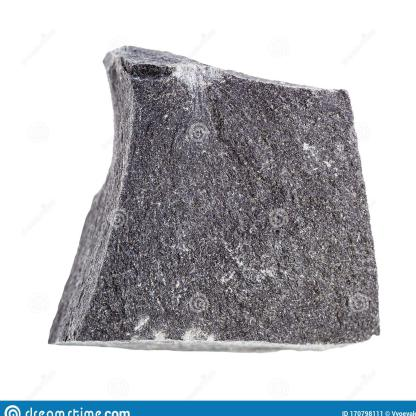Igneous_Basalt: (48, 26, 391, 356)
